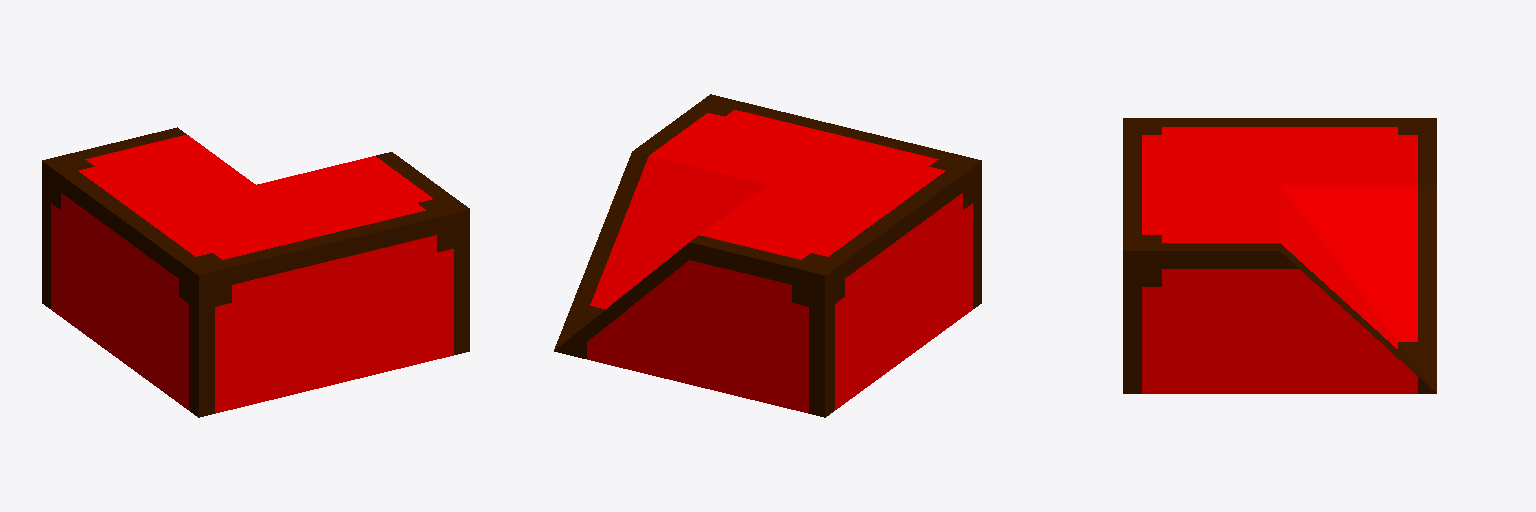
The picture shows the model from 3 angles: view 1: azimuth 30°, elevation 25°; view 2: azimuth 150°, elevation 25°; view 3: azimuth 270°, elevation 25°; orthographic projection.
Parts seen in each view (by area): view 1: 11_red; view 2: 11_red; view 3: 11_red.
Part boxes in pixels (x1,y1,x2,y2): 11_red: (42, 127, 469, 417); 11_red: (554, 94, 981, 417); 11_red: (1123, 118, 1436, 393).
Size of the model in its own units: 1 by 0.5 by 1.
1 materials, 1 textured.